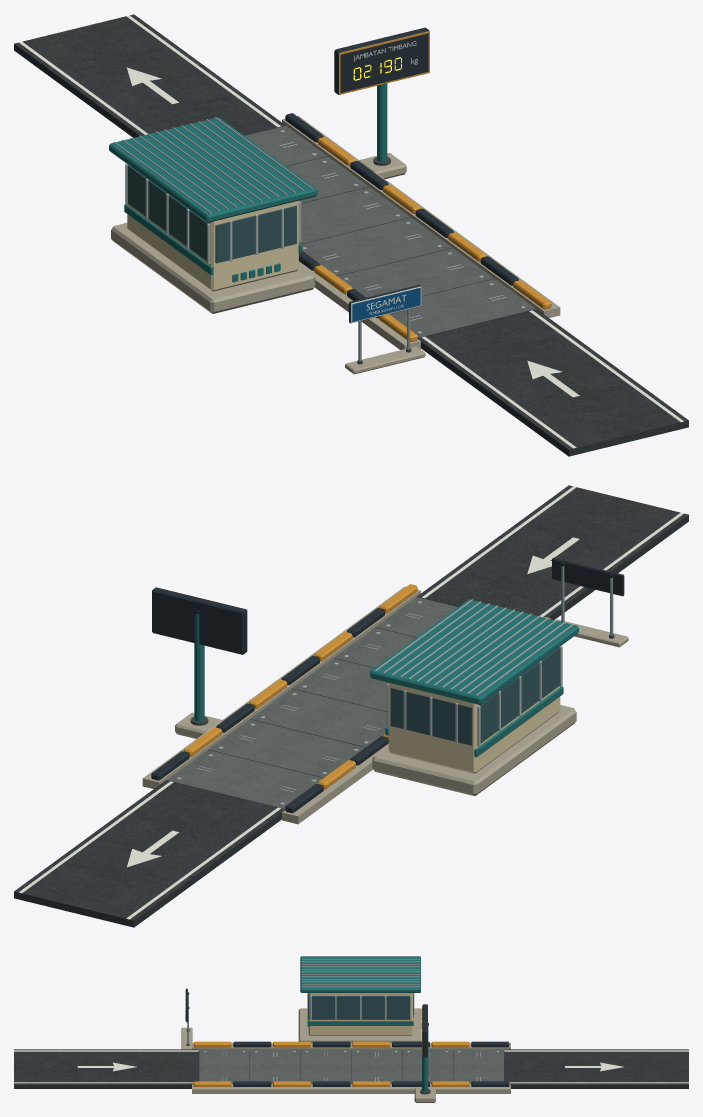
3 views of the same model, one above another, from view 1: azimuth 30°, elevation 25°; view 2: azimuth 150°, elevation 25°; view 3: azimuth 270°, elevation 25° (orthographic). The views are drawn at different scales.
Visible parts, largest first — view 1: Approach surfacing, Removable scale cassettes, Sunshade roof, Ribbon windows, Kerb hazard blocks, Instrument house plinth, Operator cabin, Scale indicator, Standing seams, Maintenance copings, Channel lines, Wayfinding plaque (+5 smaller); view 2: Approach surfacing, Removable scale cassettes, Sunshade roof, Ribbon windows, Kerb hazard blocks, Operator cabin, Instrument house plinth, Scale indicator, Maintenance copings, Standing seams, Channel lines, Wayfinding plaque (+5 smaller); view 3: Approach surfacing, Removable scale cassettes, Kerb hazard blocks, Sunshade roof, Maintenance copings, Standing seams, Ribbon windows, Operator cabin, Channel lines, Instrument house plinth, Enamel sill, Direction arrows (+4 smaller).
Part boxes in pixels (bbox=[...]): Approach surfacing: bbox=[14, 14, 688, 456]; Removable scale cassettes: bbox=[245, 126, 536, 338]; Sunshade roof: bbox=[109, 117, 317, 222]; Ribbon windows: bbox=[127, 165, 296, 263]; Kerb hazard blocks: bbox=[285, 113, 551, 342]; Instrument house plinth: bbox=[111, 223, 315, 313]; Operator cabin: bbox=[127, 200, 298, 291]; Scale indicator: bbox=[334, 27, 429, 94]; Standing seams: bbox=[113, 117, 312, 213]; Maintenance copings: bbox=[282, 115, 560, 349]; Channel lines: bbox=[19, 15, 683, 448]; Wayfinding plaque: bbox=[349, 284, 421, 364]; Approach surfacing: bbox=[14, 485, 688, 927]; Removable scale cassettes: bbox=[166, 597, 457, 809]; Sunshade roof: bbox=[370, 599, 578, 704]; Ribbon windows: bbox=[390, 647, 559, 745]; Kerb hazard blocks: bbox=[151, 584, 550, 813]; Operator cabin: bbox=[388, 683, 560, 773]; Instrument house plinth: bbox=[372, 705, 576, 795]; Scale indicator: bbox=[152, 587, 247, 654]; Maintenance copings: bbox=[142, 586, 420, 824]; Standing seams: bbox=[375, 599, 573, 696]; Channel lines: bbox=[19, 486, 683, 919]; Wayfinding plaque: bbox=[552, 557, 624, 638]; Approach surfacing: bbox=[14, 1049, 688, 1088]; Removable scale cassettes: bbox=[199, 1049, 503, 1084]; Kerb hazard blocks: bbox=[193, 1041, 509, 1086]; Sunshade roof: bbox=[300, 956, 420, 992]; Maintenance copings: bbox=[192, 1043, 510, 1093]; Standing seams: bbox=[301, 956, 419, 987]; Ribbon windows: bbox=[308, 993, 413, 1019]; Operator cabin: bbox=[308, 993, 412, 1035]; Channel lines: bbox=[14, 1050, 688, 1083]; Instrument house plinth: bbox=[298, 1008, 421, 1042]; Enamel sill: bbox=[308, 1021, 413, 1025]; Direction arrows: bbox=[77, 1062, 623, 1071].
Size of the model in its own units: 10.78 by 4.22 by 32.
17 materials, 2 textured.
